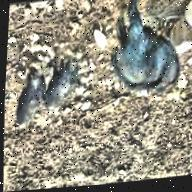boar: (101, 0, 192, 123), (39, 43, 98, 117), (11, 57, 52, 129)
